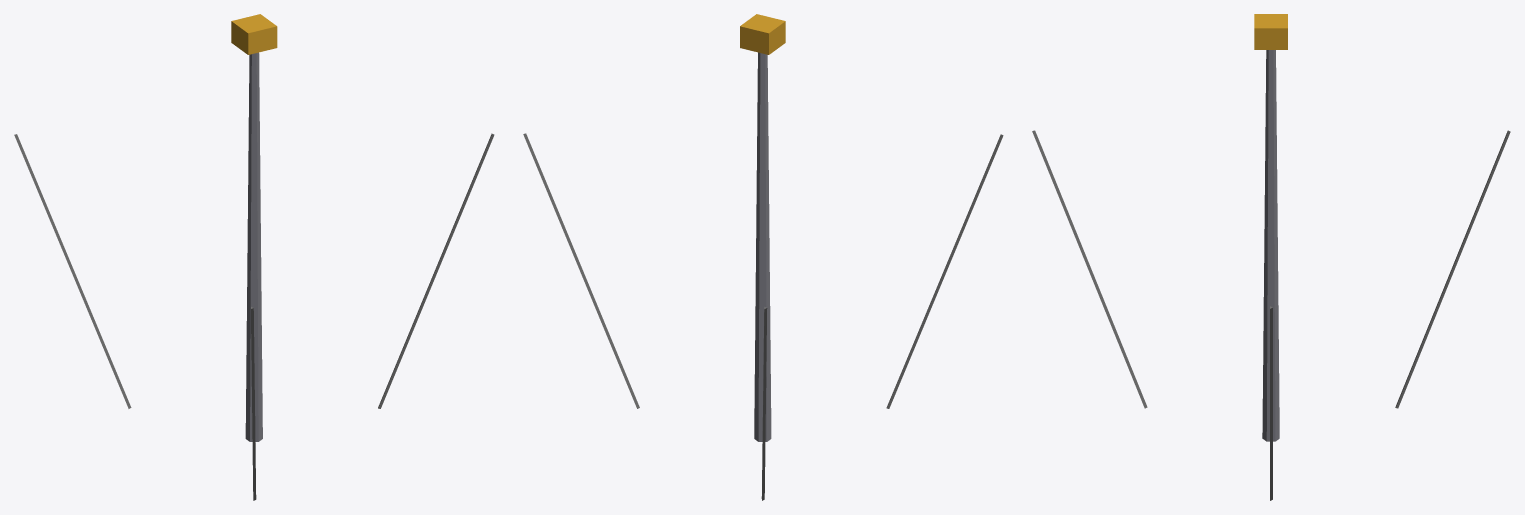
The model's file is mast.glb.
3 views of the same model, side by side, from view 1: azimuth 30°, elevation 25°; view 2: azimuth 150°, elevation 25°; view 3: azimuth 270°, elevation 25° (orthographic).
Parts seen in each view (by area): view 1: mast; view 2: mast; view 3: mast.
Part boxes in pixels (box(x1,y1,x2,y2)): mast: box(14, 14, 494, 500); mast: box(523, 14, 1003, 500); mast: box(1032, 14, 1510, 500).
Bounding box in the file's own units: 8.71 × 9.57 × 9.92.
